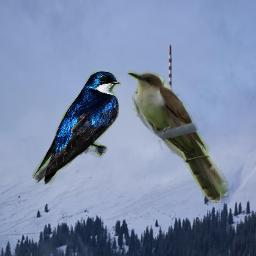Cuckoo: (126, 69, 229, 203)
Swallow: (32, 71, 121, 185)
